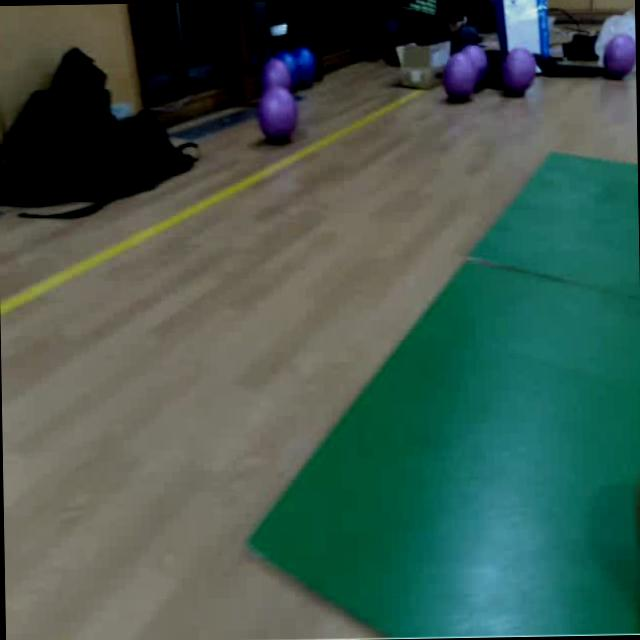blue_ball: (294, 45, 316, 84)
purple_ball: (260, 87, 297, 138), (500, 47, 536, 97), (442, 53, 476, 100), (603, 33, 636, 77)
